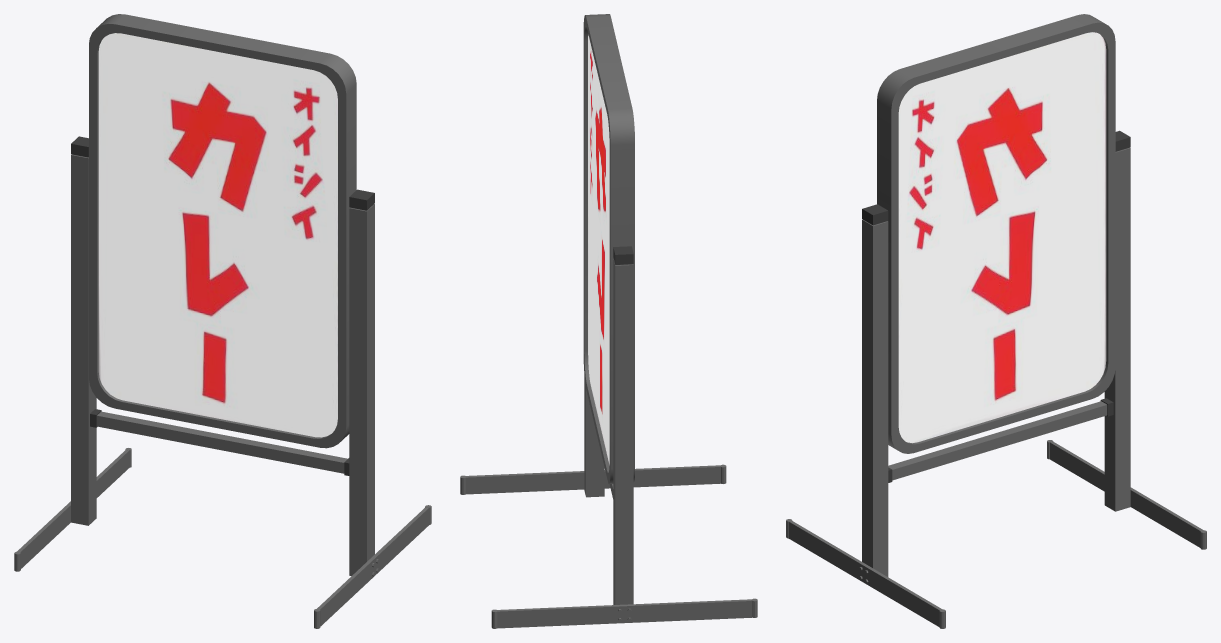
Rendered from sign1.gltf.
The picture shows the model from 3 angles, left to right: view 1: azimuth 30°, elevation 25°; view 2: azimuth 150°, elevation 25°; view 3: azimuth 270°, elevation 25°; orthographic projection. The views are drawn at different scales.
Visible parts, largest first — view 1: Cube.004; view 2: Cube.004; view 3: Cube.004.
Part boxes in pixels (x1,y1,x2,y2): Cube.004: [14, 14, 431, 628]; Cube.004: [460, 14, 757, 628]; Cube.004: [786, 14, 1206, 628].
Bounding box in the file's own units: 1.31 × 1.77 × 1.36.
3 materials, 1 textured.
